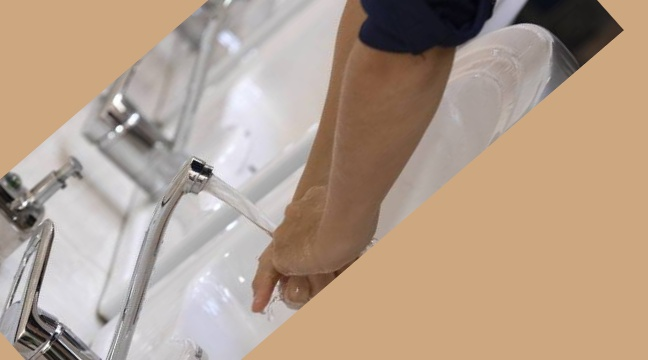washing hand: (0, 19, 438, 359)
